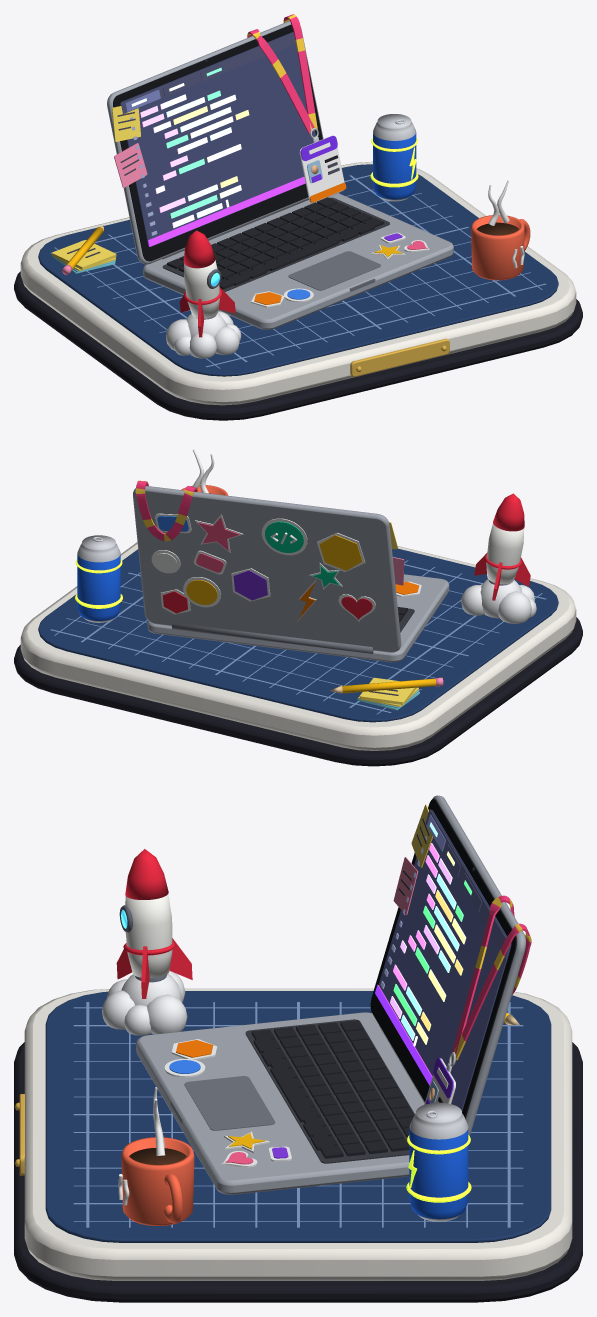
The model's file is hackathon_laptop.glb.
3 views of the same model, one above another, from view 1: azimuth 30°, elevation 25°; view 2: azimuth 150°, elevation 25°; view 3: azimuth 270°, elevation 25° (orthographic). The views are drawn at different scales.
Parts seen in each view (by area): view 1: hackathon_laptop; view 2: hackathon_laptop; view 3: hackathon_laptop.
Part boxes in pixels (x1,y1,x2,y2): hackathon_laptop: (14, 14, 582, 420); hackathon_laptop: (14, 449, 582, 766); hackathon_laptop: (14, 795, 582, 1302).
Bounding box in the file's own units: 1 × 0.4897 × 0.871.
